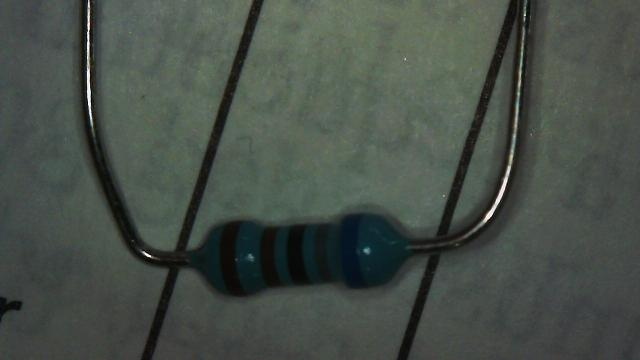black: (287, 224, 312, 284)
blue: (340, 214, 366, 287)
brown: (220, 221, 247, 296), (260, 226, 282, 287)
grey: (314, 225, 332, 282)
resistor: (190, 208, 420, 302)
